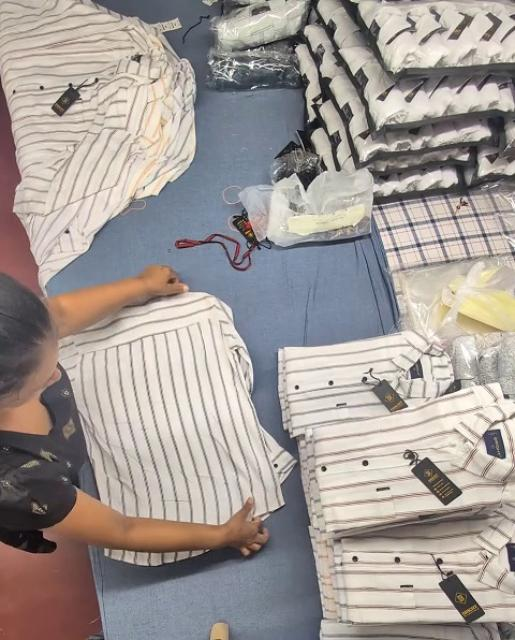new-garment: (61, 293, 294, 524), (63, 293, 293, 524), (105, 546, 209, 566)
